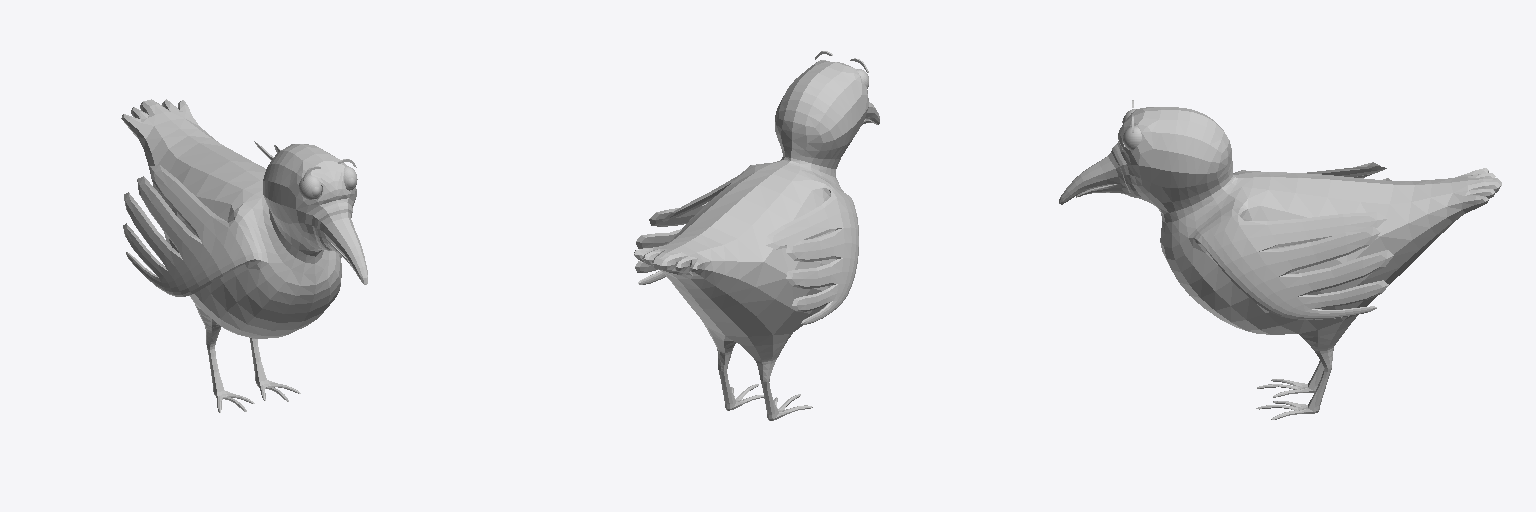
The model's file is gaviOta.obj.
The picture shows the model from 3 angles: view 1: azimuth 30°, elevation 25°; view 2: azimuth 150°, elevation 25°; view 3: azimuth 270°, elevation 25°; orthographic projection.
Parts seen in each view (by area): view 1: cejas_Plane; view 2: cejas_Plane; view 3: cejas_Plane.
Boxes of the visible parts, x1=… form: cejas_Plane: x1=121, y1=99, x2=367, y2=412; cejas_Plane: x1=634, y1=51, x2=879, y2=420; cejas_Plane: x1=1059, y1=100, x2=1501, y2=419.
Bounding box in the file's own units: 2.37 × 4 × 5.46.